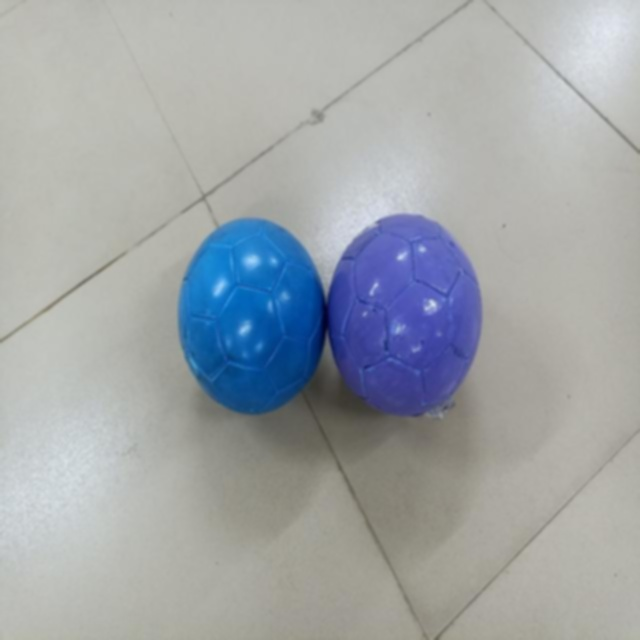blue_ball: (180, 218, 329, 412)
purple_ball: (330, 212, 483, 408)
